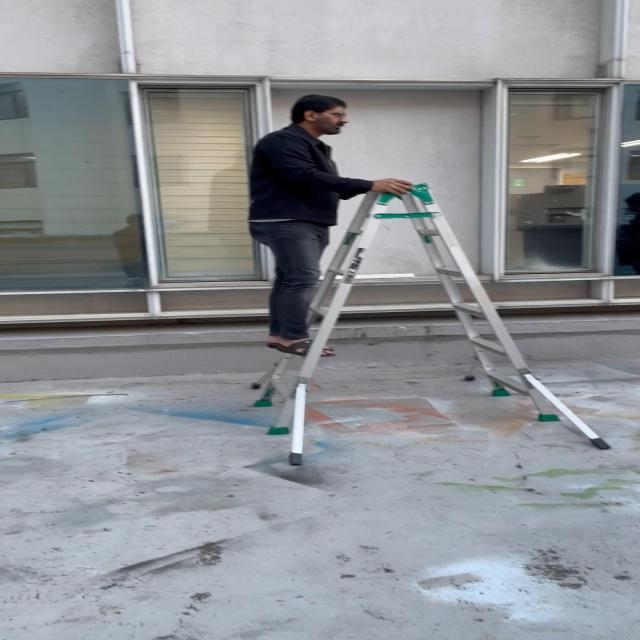boots: (244, 175, 624, 469)
vest: (238, 88, 422, 360)
